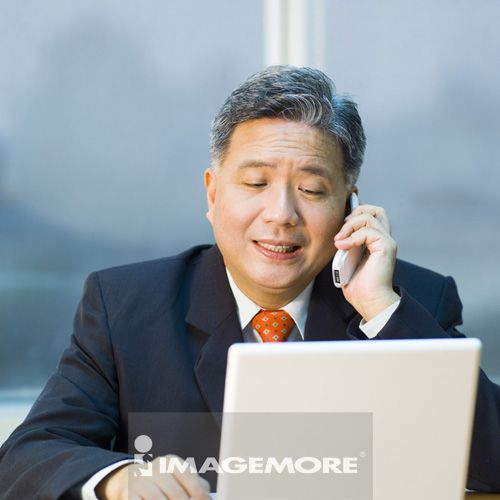talk: (217, 147, 398, 317)
